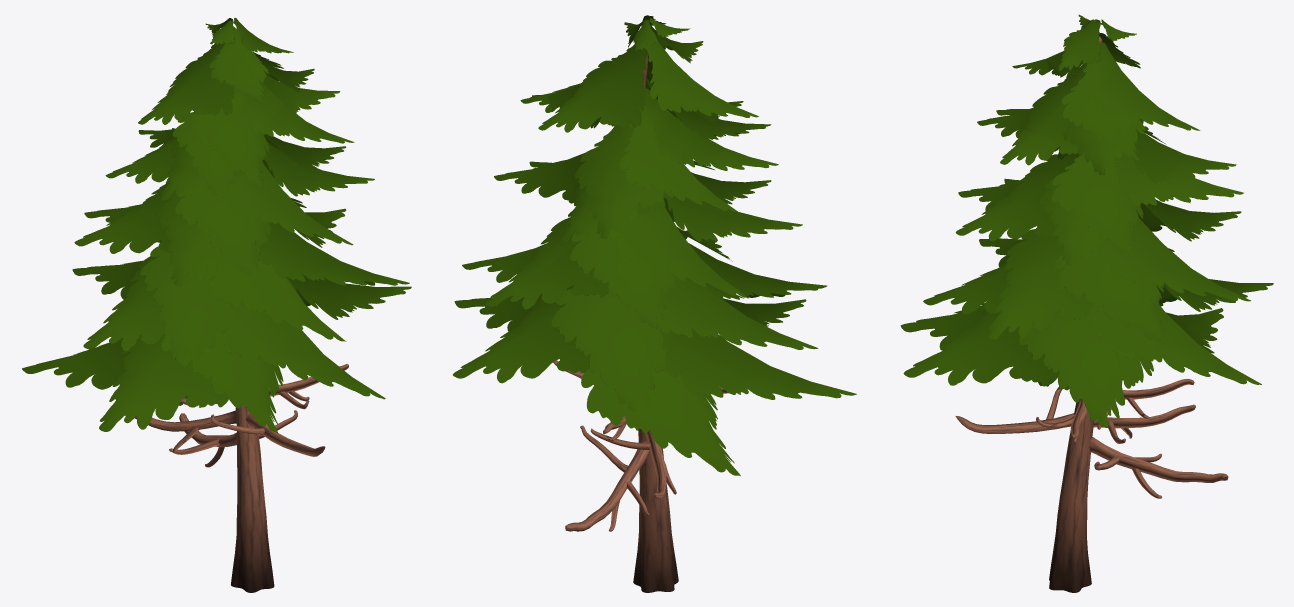
File: pine_1.glb
3 renders of one model, left to right at view 1: azimuth 30°, elevation 25°; view 2: azimuth 150°, elevation 25°; view 3: azimuth 270°, elevation 25°, orthographic. The views are drawn at different scales.
Parts seen in each view (by area): view 1: Pine_1; view 2: Pine_1; view 3: Pine_1.
Boxes of the visible parts, x1,y1,x2,y2 form: Pine_1: (22, 18, 411, 592); Pine_1: (453, 15, 856, 592); Pine_1: (900, 14, 1273, 592).
Size of the model in its own units: 4.94 by 7.32 by 4.54.
2 materials, 2 textured.
